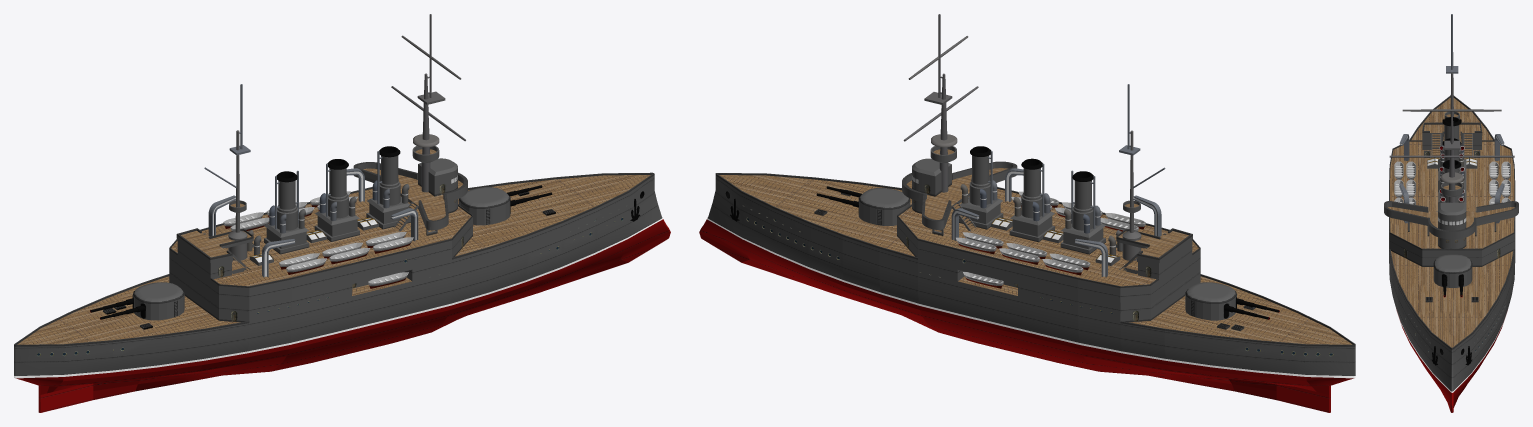
The model's file is Potemcin2.fbx.
The picture shows the model from 3 angles, left to right: view 1: azimuth 30°, elevation 25°; view 2: azimuth 150°, elevation 25°; view 3: azimuth 270°, elevation 25°; orthographic projection. The views are drawn at different scales.
Visible parts, largest first — view 1: Куб.003, Куб.006, башня2, башня1, Куб.007, Куб.005, Цилиндр.013, Цилиндр.012, Цилиндр.002, Куб.018, Куб.020, Цилиндр.017 (+2 smaller); view 2: Куб.003, Куб.006, башня2, башня1, Куб.007, Куб.005, Цилиндр.012, Цилиндр.013, Цилиндр.002, Куб.018, Куб.020, Цилиндр.017 (+2 smaller); view 3: Куб.003, Куб.006, башня1, Куб.005, Куб.007, Цилиндр.022, Цилиндр.002, Цилиндр.029, Цилиндр.019, Цилиндр.020, Цилиндр.013, Куб.008 (+15 smaller).
Part boxes in pixels (x1,y1,x2,y2): Куб.003: (14,172,670,412); Куб.006: (353,162,467,230); башня2: (132,282,184,320); башня1: (458,187,510,225); Куб.007: (176,228,253,262); Куб.005: (418,158,457,213); Цилиндр.013: (379,146,400,205); Цилиндр.012: (327,159,348,218); Цилиндр.002: (276,171,297,230); Куб.018: (314,211,359,241); Куб.020: (264,223,309,254); Цилиндр.017: (228,130,247,260); Куб.003: (699,173,1355,412); Куб.006: (902,161,1017,229); башня2: (1185,282,1236,320); башня1: (858,188,910,225); Куб.007: (1116,228,1192,262); Куб.005: (912,158,951,213); Цилиндр.012: (1021,158,1042,218); Цилиндр.013: (969,146,991,205); Цилиндр.002: (1072,171,1093,230); Куб.018: (1009,210,1054,242); Куб.020: (1060,223,1105,254); Цилиндр.017: (1122,130,1141,260); Куб.003: (1389,95,1515,412); Куб.006: (1384,201,1518,238); башня1: (1433,254,1472,287); Куб.005: (1438,202,1466,248); Куб.007: (1422,122,1482,145); Цилиндр.022: (1389,155,1514,157); Цилиндр.002: (1442,117,1461,153); Цилиндр.029: (1402,109,1501,111); Цилиндр.019: (1448,121,1455,202); Цилиндр.020: (1441,182,1463,196); Цилиндр.013: (1442,160,1461,202); Куб.008: (1431,133,1441,155).
Bounding box in the file's own units: 1346 × 593 × 280.
